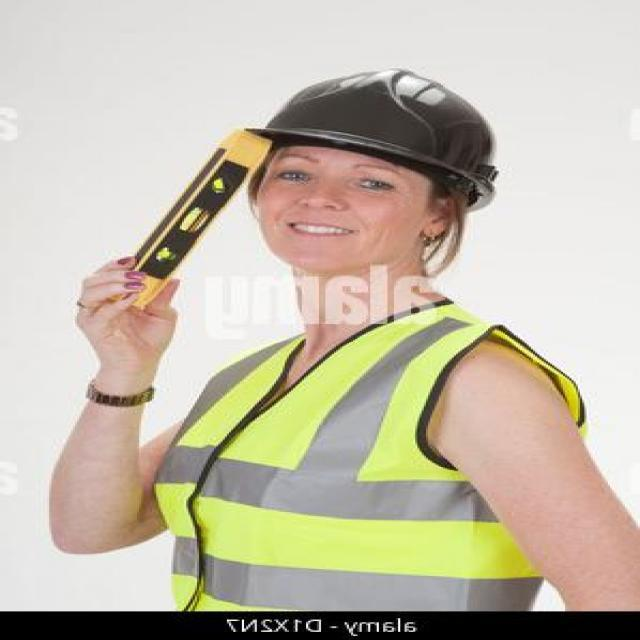reflective_jacket: (145, 299, 580, 606)
safety_helmet: (203, 60, 515, 195)
